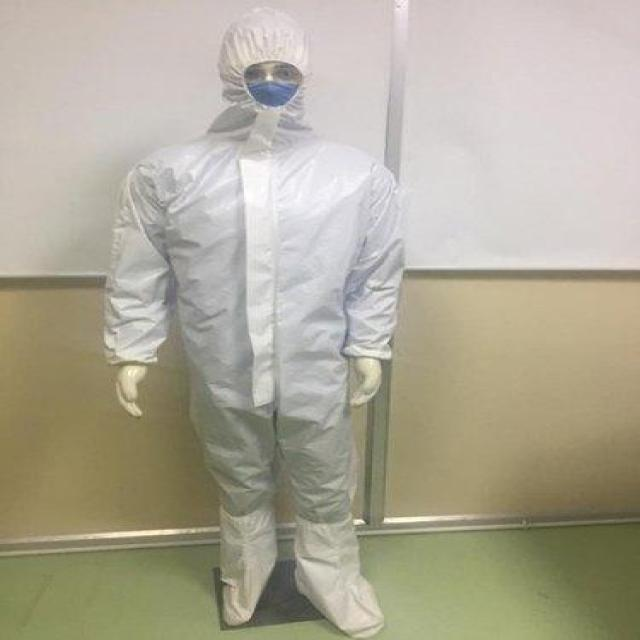Coverall: (74, 12, 463, 630)
Mask: (236, 78, 311, 104)
